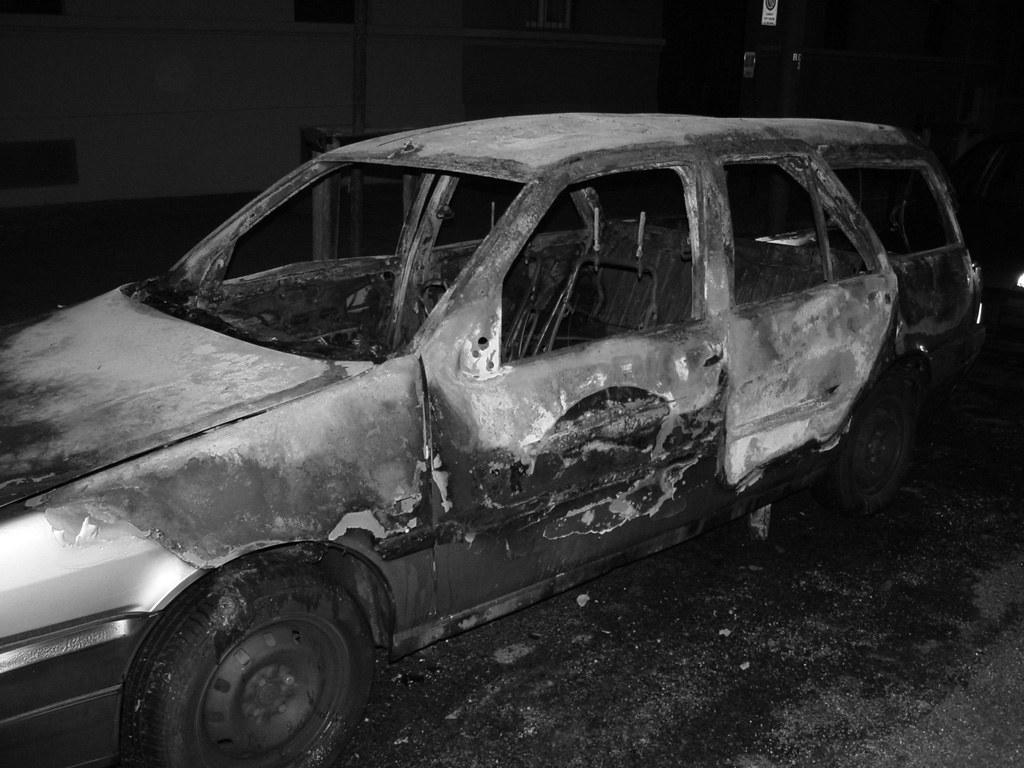doorouter-dent: (452, 358, 696, 590), (715, 318, 866, 456)
fender-dent: (147, 378, 420, 572)
